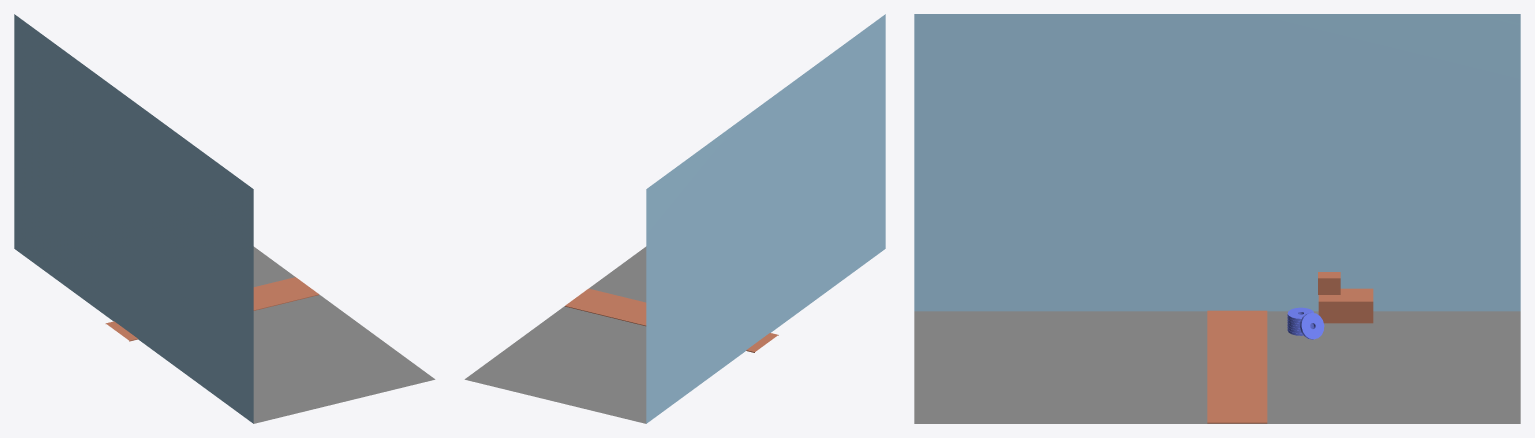
The model's file is Background_01.fbx.
3 renders of one model, left to right at view 1: azimuth 30°, elevation 25°; view 2: azimuth 150°, elevation 25°; view 3: azimuth 270°, elevation 25°, orthographic. The views are drawn at different scales.
Parts seen in each view (by area): view 1: polySurface49, polySurface50, pCube3; view 2: polySurface49, polySurface50, pCube3; view 3: polySurface49, polySurface50, pCube3, pCube6, polySurface39.
Part boxes in pixels (x1,y1,x2,y2): polySurface49: (14,14,253,423); polySurface50: (253,246,435,423); pCube3: (105,277,319,341); polySurface49: (646,14,885,423); polySurface50: (464,246,646,423); pCube3: (565,288,778,352); polySurface49: (914,14,1520,311); polySurface50: (914,311,1520,423); pCube3: (1207,310,1267,423); pCube6: (1318,272,1373,323); polySurface39: (1287,307,1324,339).
Bounding box in the file's own units: 634 × 747 × 1379.
